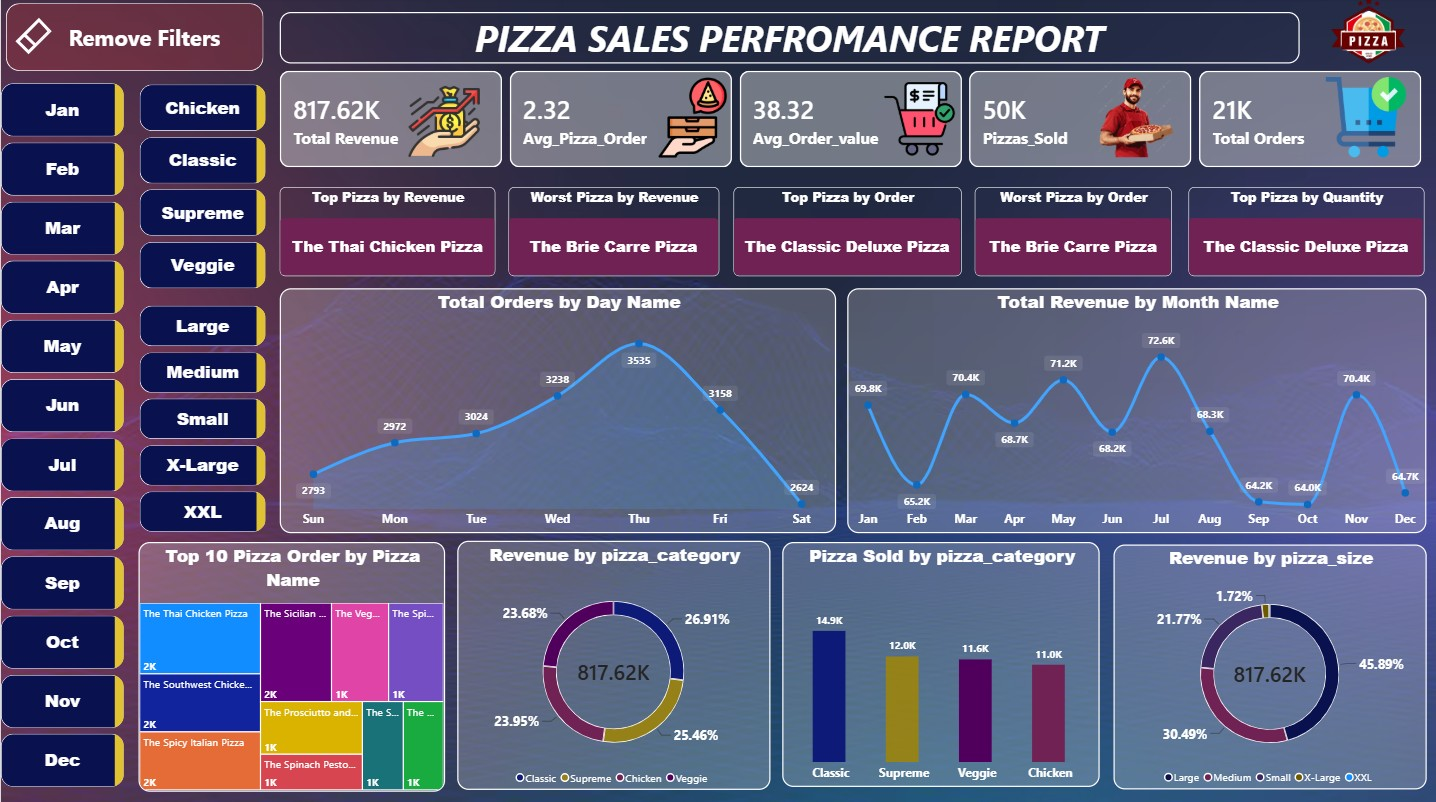

The page's visual inventory and layout, read from the dashboard file:
{"tool":"powerbi","page":{"name":"Page 1","canvas":[1920,1080],"ordinal":0},"visuals":[{"type":"cardVisual","fields":{"Data":["PIZZA_SALES.Total Revenue","PIZZA_SALES.Avg_Pizza_Per_Order","PIZZA_SALES.Avg_Order_value","PIZZA_SALES.Total_Pizzas_Sold","PIZZA_SALES.Total Orders"]},"box":[372.6,98.8,1529.3,129.7],"z":0},{"type":"image","box":[524.9,115.3,135.7,101.3],"z":1000},{"type":"image","box":[823.3,102.9,201.7,115.3],"z":2000},{"type":"image","box":[1144.4,113.2,166.7,98.8],"z":3000},{"type":"image","box":[1428.5,107,177,107],"z":4000},{"type":"image","box":[1745.5,107,156.4,107],"z":5000},{"type":"lineChart","fields":{"Category":["PIZZA_SALES.Month Name"],"Y":["PIZZA_SALES.Total Revenue"]},"box":[1130,389,773.9,327.3],"z":6000},{"type":"lineChart","fields":{"Category":["PIZZA_SALES.Day Name"],"Y":["PIZZA_SALES.Total Orders"]},"box":[372.6,389,743.1,327.3],"z":7000},{"type":"donutChart","title":"Revenue by pizza_category","fields":{"Category":["PIZZA_SALES.pizza_category"],"Y":["PIZZA_SALES.Total Revenue"]},"box":[609.3,726.6,418,333],"z":8000},{"type":"donutChart","title":"Revenue by pizza_size","fields":{"Category":["PIZZA_SALES.pizza_size"],"Y":["PIZZA_SALES.Total Revenue"]},"box":[1486.1,730.7,418,327.5],"z":9000},{"type":"clusteredColumnChart","title":"Pizza Sold by pizza_category","fields":{"Category":["PIZZA_SALES.pizza_category"],"Y":["PIZZA_SALES.Total_Pizzas_Sold"]},"box":[1043.6,728.6,424,327.3],"z":10000},{"type":"treemap","title":"Top 10 Pizza Order by Pizza Name","fields":{"Group":["PIZZA_SALES.pizza_name"],"Values":["PIZZA_SALES.Total Orders"]},"box":[183.2,728.6,409.6,333.4],"z":11000},{"type":"advancedSlicerVisual","title":"Top Pizza by Revenue","fields":{"Values":["PIZZA_SALES.pizza_name"]},"box":[372.6,253.2,288.2,119.4],"z":12000},{"type":"advancedSlicerVisual","title":"Worst Pizza by Revenue","fields":{"Values":["PIZZA_SALES.pizza_name"]},"box":[677.2,253.2,282,119.4],"z":13000},{"type":"advancedSlicerVisual","title":"Top Pizza by Order","fields":{"Values":["PIZZA_SALES.pizza_name"]},"box":[977.7,253.2,304.6,119.4],"z":14000},{"type":"advancedSlicerVisual","title":"Worst Pizza by Order","fields":{"Values":["PIZZA_SALES.pizza_name"]},"box":[1300.9,253.2,263.5,119.4],"z":15000},{"type":"advancedSlicerVisual","title":"Top Pizza by Quantity","fields":{"Values":["PIZZA_SALES.pizza_name"]},"box":[1587,253.2,314.9,119.4],"z":16000},{"type":"advancedSlicerVisual","fields":{"Values":["PIZZA_SALES.Month Name"]},"box":[0,115.8,164.7,946.5],"z":17000},{"type":"advancedSlicerVisual","fields":{"Values":["PIZZA_SALES.pizza_category"]},"box":[184.6,117.6,168.3,273.3],"z":18000},{"type":"actionButton","box":[7.2,9,343.8,90.5],"z":19000},{"type":"advancedSlicerVisual","fields":{"Values":["PIZZA_SALES.pizza_size"]},"box":[184.6,412.6,168.3,304],"z":19001},{"type":"textbox","box":[372.8,19.9,1362.7,68.8],"z":19002},{"type":"image","box":[1733.7,0,186.4,88.7],"z":19003}]}

Visuals, with their boxes in screenshot pixels (x1, y1, x2, y2), scaled from the page's 1920x1080 canvas onto the 1436x802 screenshot:
cardVisual - PIZZA_SALES.Total Revenue x PIZZA_SALES.Avg_Pizza_Per_Order: [279, 73, 1422, 170]
image: [393, 86, 494, 161]
image: [616, 76, 767, 162]
image: [856, 84, 981, 157]
image: [1068, 79, 1201, 159]
image: [1305, 79, 1422, 159]
lineChart - PIZZA_SALES.Month Name x PIZZA_SALES.Total Revenue: [845, 289, 1424, 532]
lineChart - PIZZA_SALES.Day Name x PIZZA_SALES.Total Orders: [279, 289, 834, 532]
"Revenue by pizza_category" donutChart: [456, 540, 768, 787]
"Revenue by pizza_size" donutChart: [1111, 543, 1424, 786]
"Pizza Sold by pizza_category" clusteredColumnChart: [781, 541, 1098, 784]
"Top 10 Pizza Order by Pizza Name" treemap: [137, 541, 443, 789]
"Top Pizza by Revenue" advancedSlicerVisual: [279, 188, 494, 277]
"Worst Pizza by Revenue" advancedSlicerVisual: [506, 188, 717, 277]
"Top Pizza by Order" advancedSlicerVisual: [731, 188, 959, 277]
"Worst Pizza by Order" advancedSlicerVisual: [973, 188, 1170, 277]
"Top Pizza by Quantity" advancedSlicerVisual: [1187, 188, 1422, 277]
advancedSlicerVisual - PIZZA_SALES.Month Name: [0, 86, 123, 789]
advancedSlicerVisual - PIZZA_SALES.pizza_category: [138, 87, 264, 290]
actionButton: [5, 7, 263, 74]
advancedSlicerVisual - PIZZA_SALES.pizza_size: [138, 306, 264, 532]
textbox: [279, 15, 1298, 66]
image: [1297, 0, 1435, 66]
